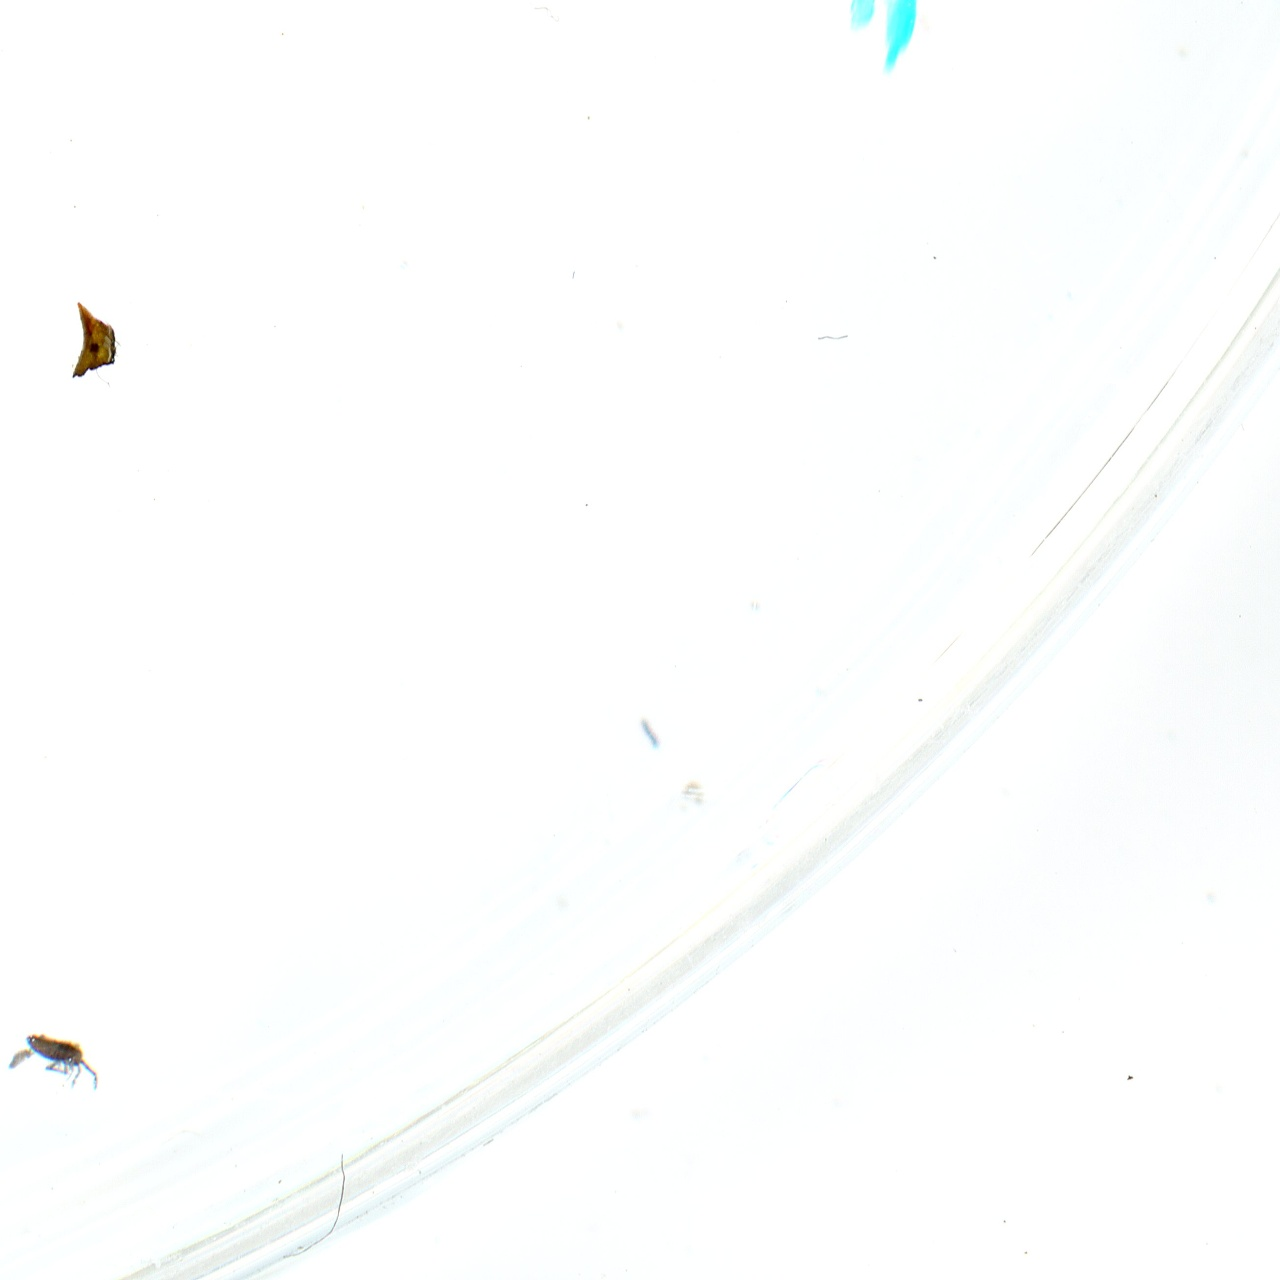arthropod: (19, 1022, 108, 1101)
